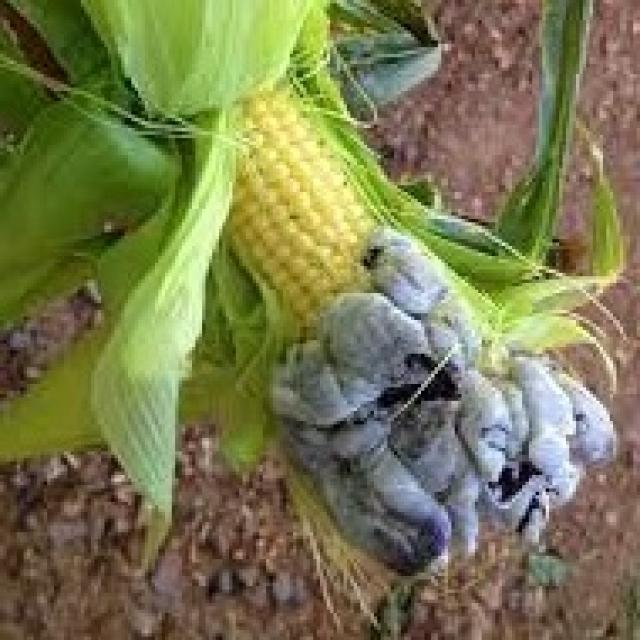Leaf_Scald: (81, 67, 640, 624)
